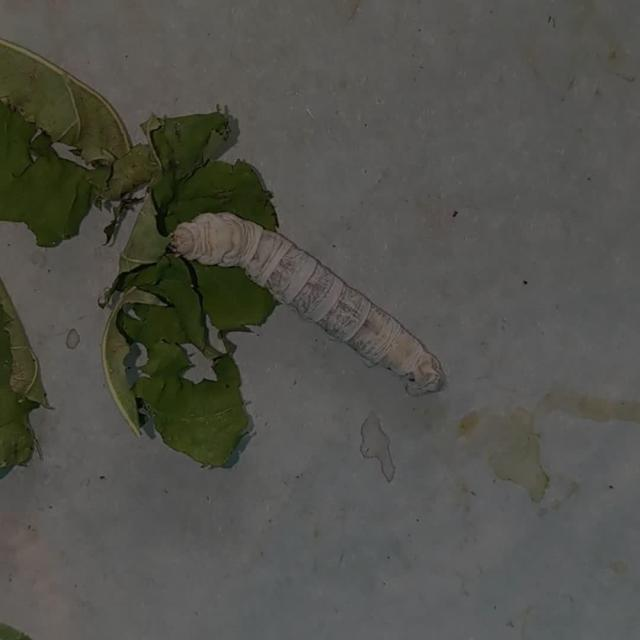Grasserie: (136, 174, 474, 434)
